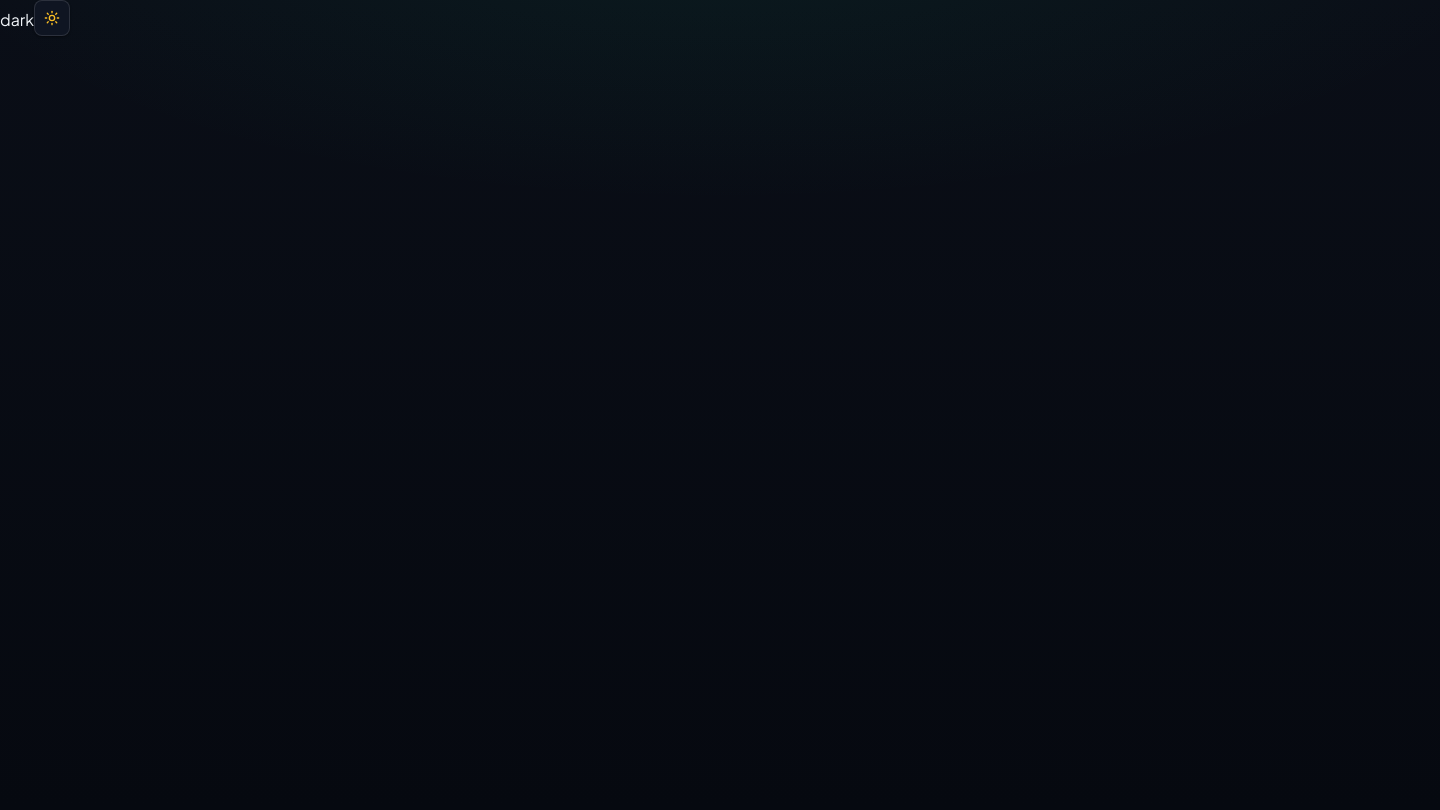
it: Dual-Theme System — ThemeProvider & ThemeToggle › toggles between dark and light mode via icon ThemeToggle and persists to localStorage
Click the button named "Switch to light mode" at (52, 18), box [34,0,70,36]
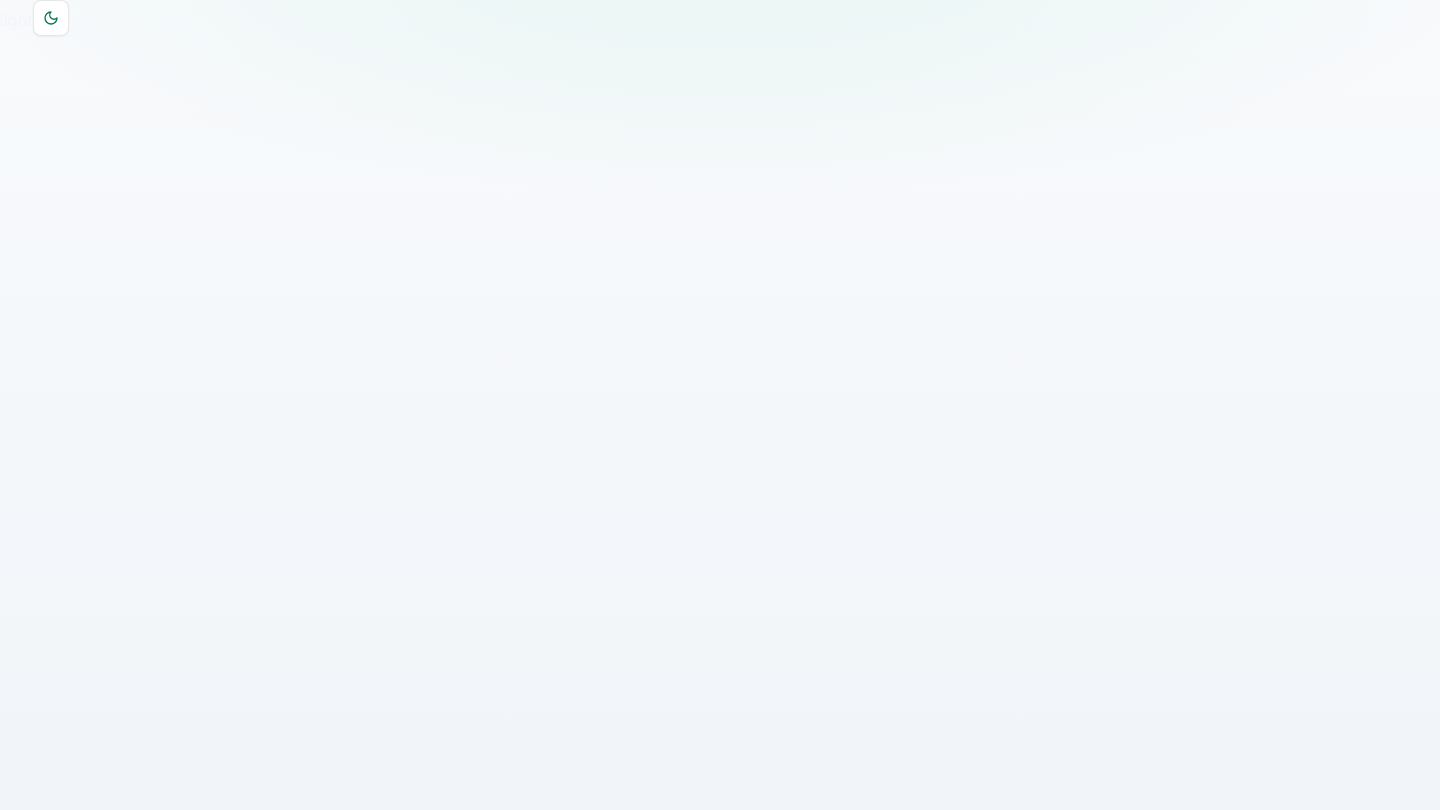
Result: the text with test id "active-theme" reads "light" at [0,9,33,30]
Click the button named "Switch to dark mode" at (51, 18), box [33,0,69,36]
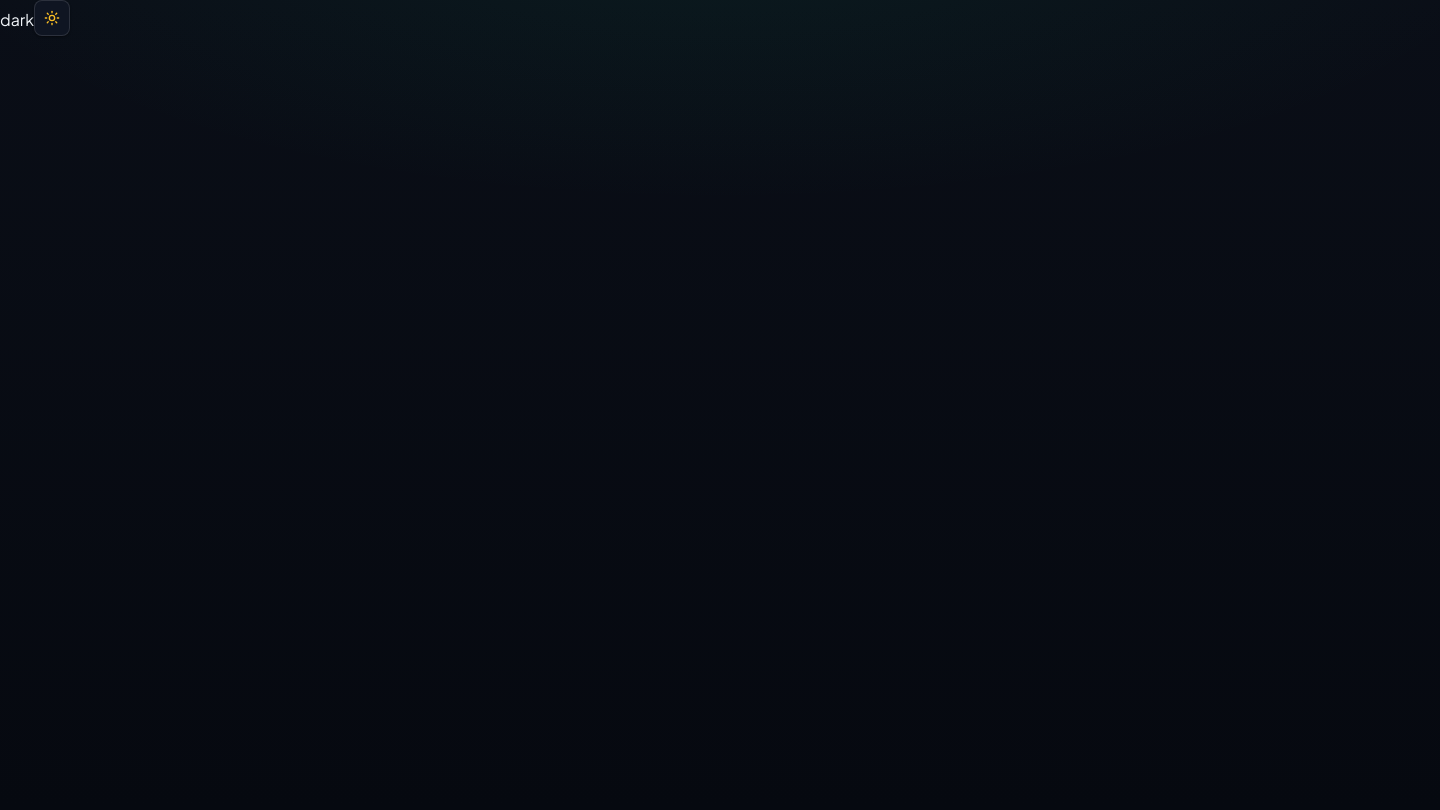
Result: the text with test id "active-theme" reads "dark" at [0,9,34,30]
